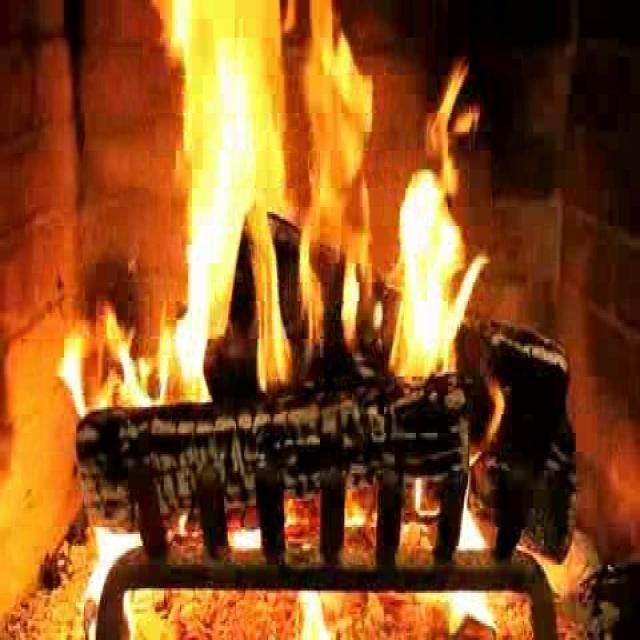Fire: (142, 6, 486, 390)
